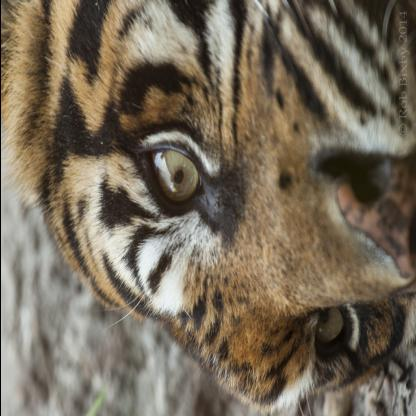tiger: (10, 0, 416, 411)
